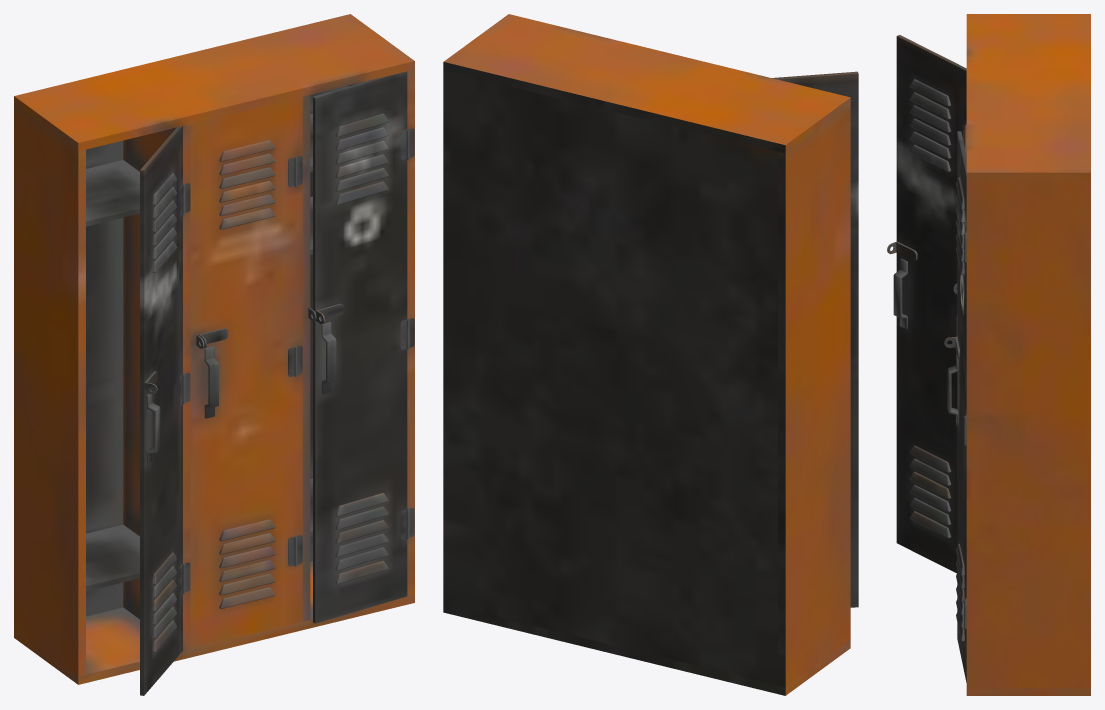
File: SM_Metal_Wardrobe_48a2d9.glb
3 views of the same model, side by side, from view 1: azimuth 30°, elevation 25°; view 2: azimuth 150°, elevation 25°; view 3: azimuth 270°, elevation 25° (orthographic). The views are drawn at different scales.
Bounding box in the file's own units: 1.36 × 2.09 × 0.7388.
Materials: 1 (1 with a texture image).
